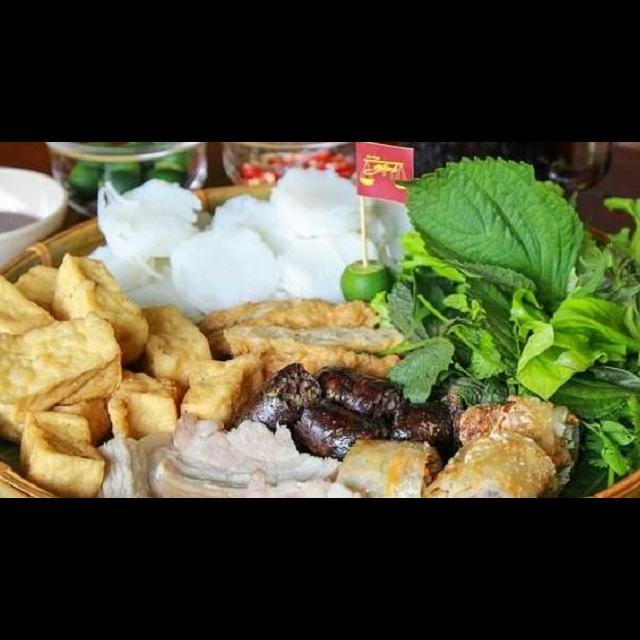bun: (85, 157, 420, 336)
bun dau: (0, 169, 640, 497)
cha com: (192, 289, 421, 392)
cha gio: (422, 387, 586, 498), (325, 429, 444, 498)
dau hu: (0, 246, 183, 496), (128, 296, 222, 392), (182, 346, 273, 432)
doi sun: (222, 357, 463, 466)
thit heo: (84, 407, 369, 498)
